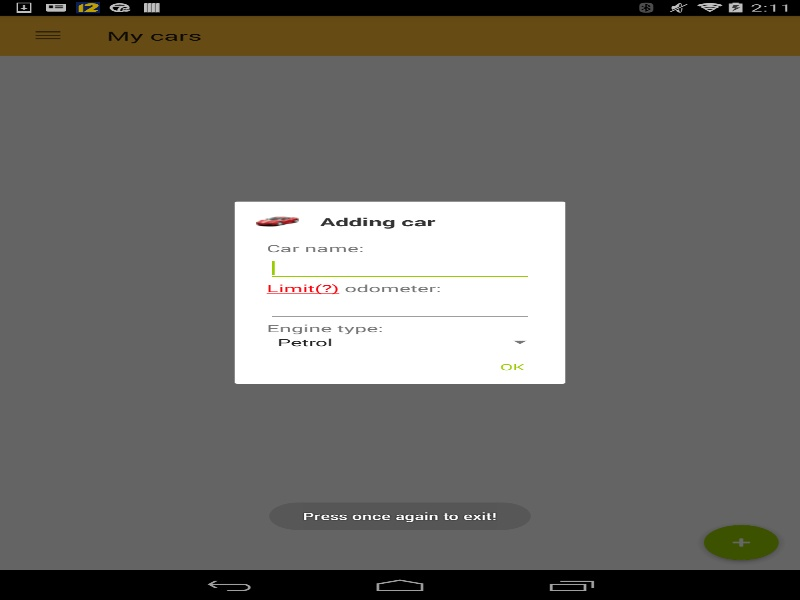Button: (469, 350, 554, 383)
Input: (266, 255, 533, 281), (266, 295, 533, 321)
